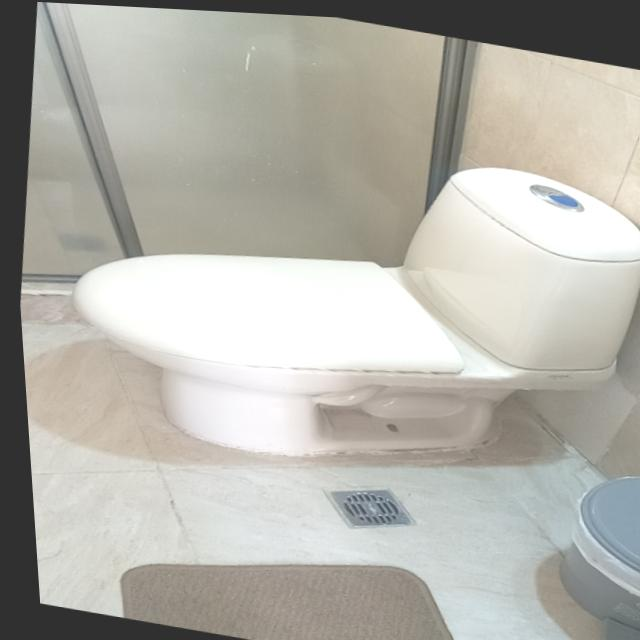toilet: (40, 89, 640, 513)
